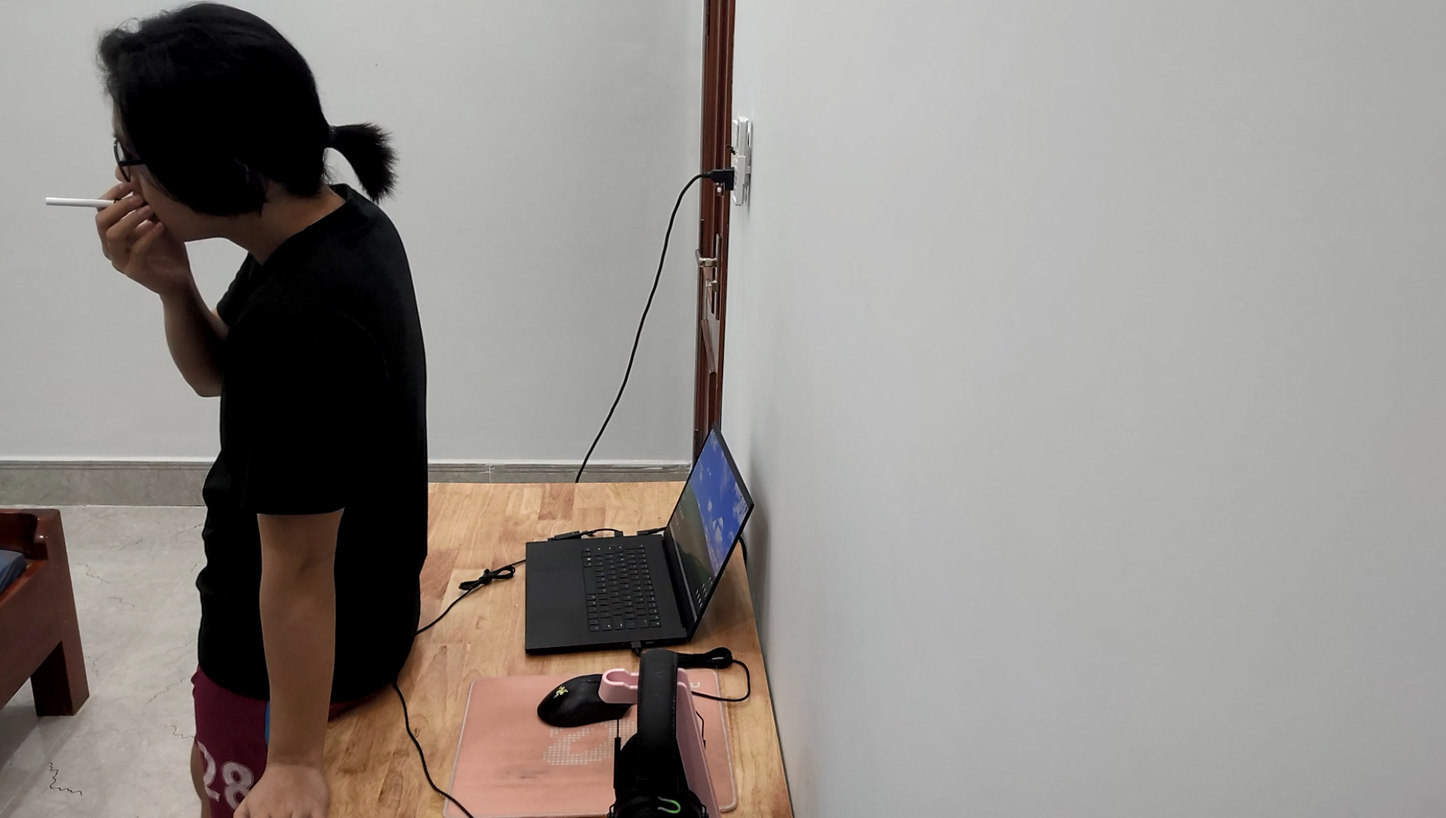cigarette: (43, 183, 124, 216)
person: (60, 0, 443, 818)
